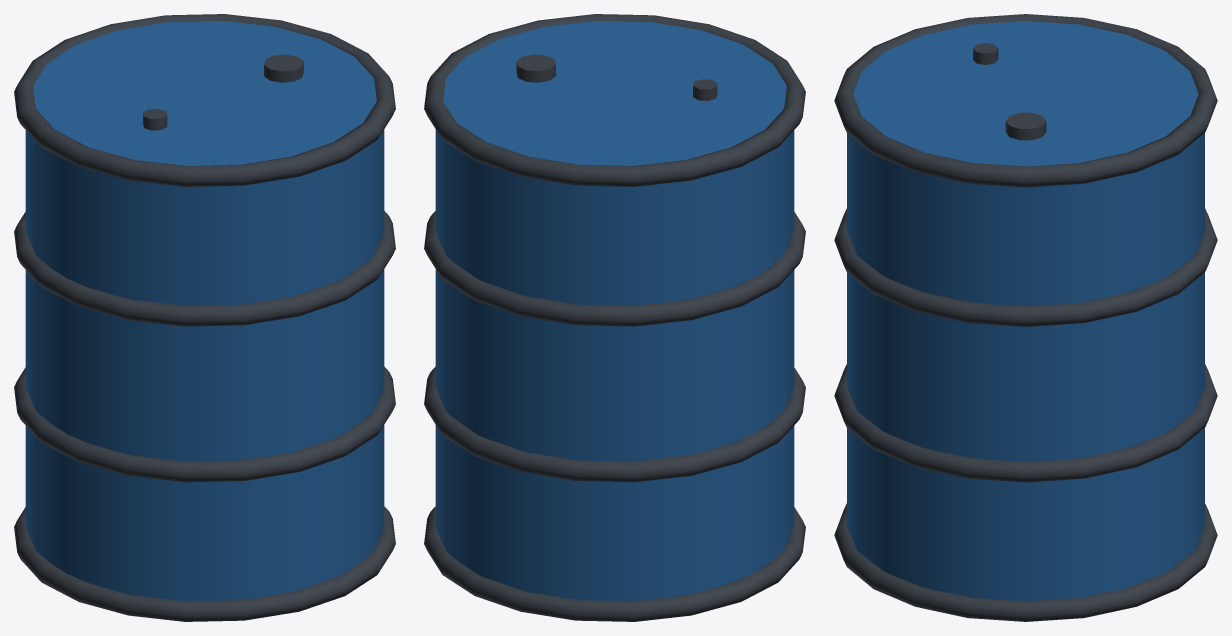
The model's file is prop_barrel.glb.
3 renders of one model, left to right at view 1: azimuth 30°, elevation 25°; view 2: azimuth 150°, elevation 25°; view 3: azimuth 270°, elevation 25°, orthographic.
Visible parts, largest first — view 1: prop_barrel; view 2: prop_barrel; view 3: prop_barrel.
Part boxes in pixels (x1,y1,x2,y2): prop_barrel: (14, 14, 395, 621); prop_barrel: (424, 14, 805, 621); prop_barrel: (834, 14, 1217, 621).
Size of the model in its own units: 0.76 by 1.01 by 0.76.
